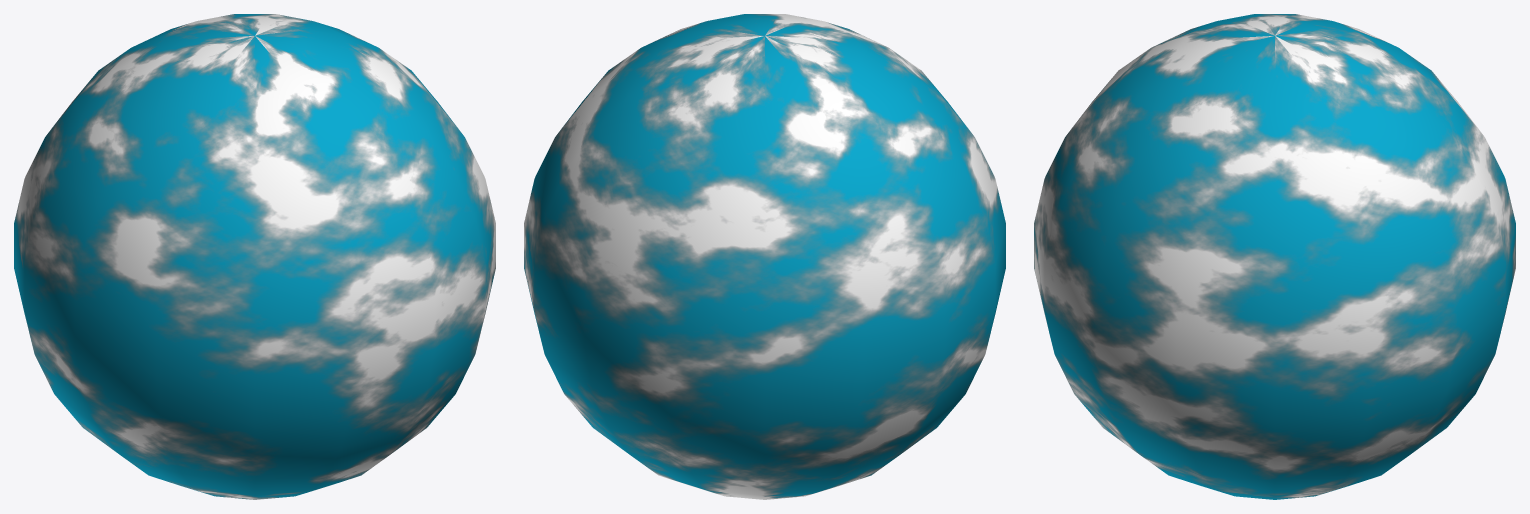
The model's file is sphereboxfbx.fbx.
The picture shows the model from 3 angles, left to right: view 1: azimuth 30°, elevation 25°; view 2: azimuth 150°, elevation 25°; view 3: azimuth 270°, elevation 25°; orthographic projection.
Parts seen in each view (by area): view 1: pSphere2; view 2: pSphere2; view 3: pSphere2.
Boxes of the visible parts, x1,y1,x2,y2 form: pSphere2: [14, 14, 495, 499]; pSphere2: [524, 14, 1005, 499]; pSphere2: [1034, 14, 1515, 499].
Bounding box in the file's own units: 161 × 163 × 162.
